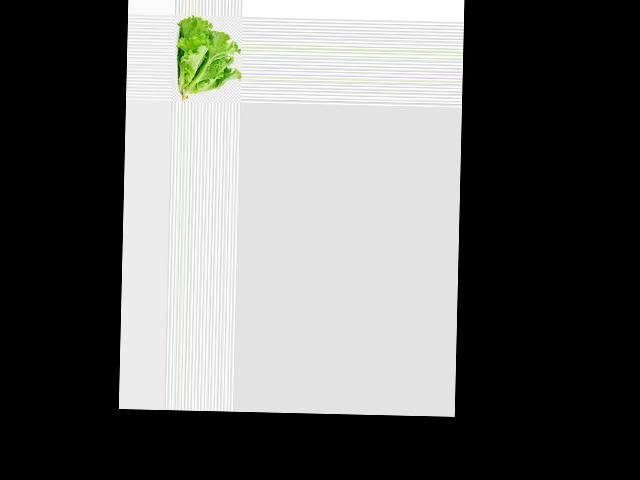lettuce: (177, 16, 242, 102)
